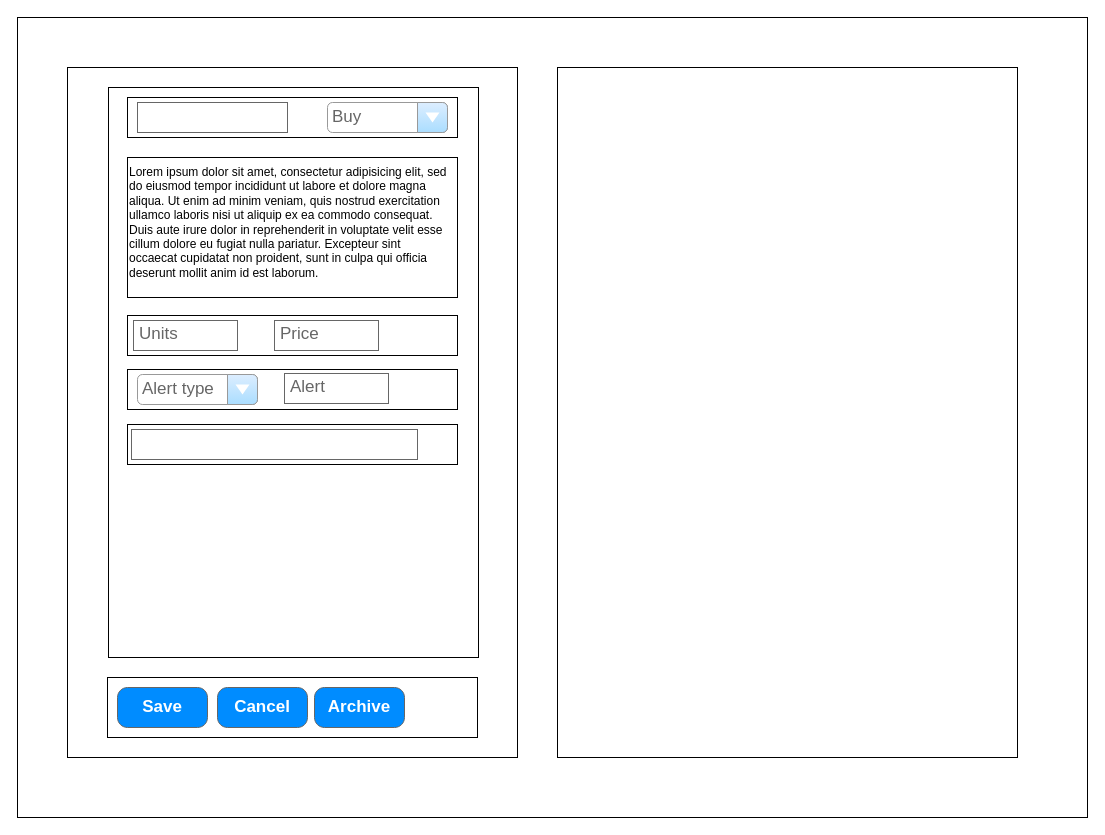
This 1105x835 diagram has some shape labels left out. The shapes that lost their labels are listed below. From the top down, each one's centre as x and y in pixels, then its label:
At point (212, 117): "TSLA".
At point (274, 444): "Company Name".
